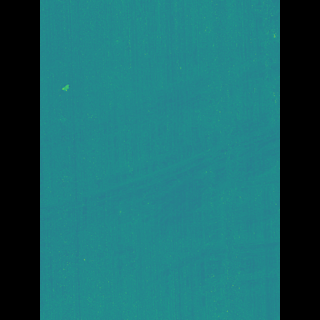Loch: (74, 105, 249, 319)
